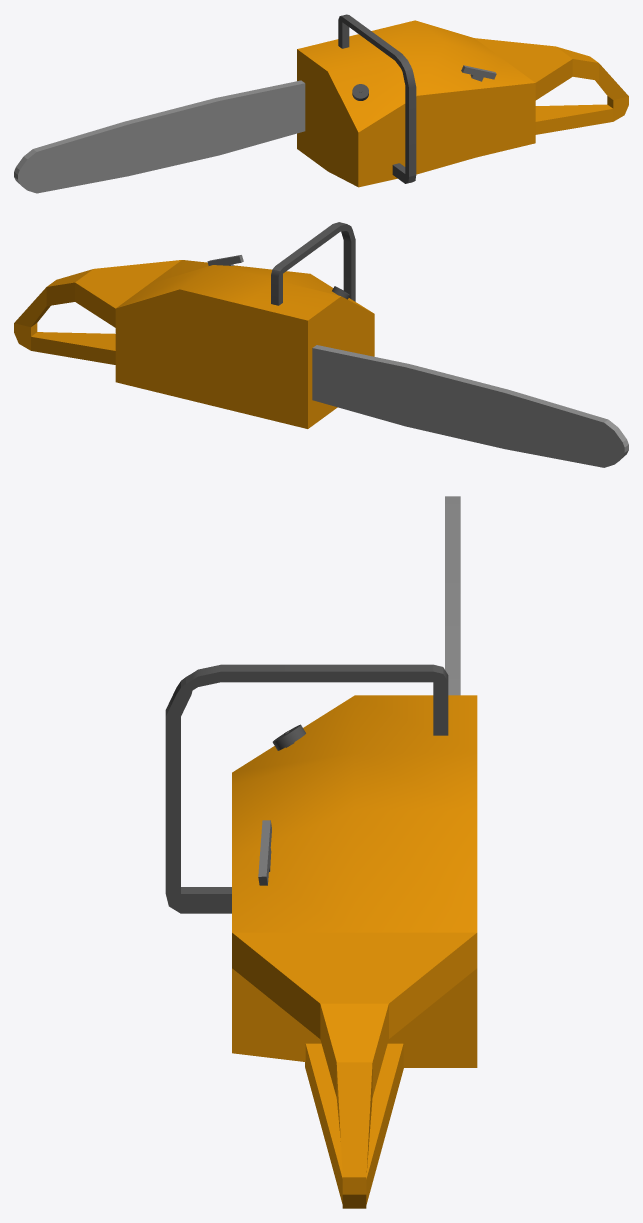
File: chainsaw.fbx
3 views of the same model, one above another, from view 1: azimuth 30°, elevation 25°; view 2: azimuth 150°, elevation 25°; view 3: azimuth 270°, elevation 25° (orthographic). The views are drawn at different scales.
Visible parts, largest first — view 1: pCube5, pCube6; view 2: pCube5; view 3: pCube5.
Boxes of the visible parts, x1,y1,x2,y2 form: pCube5: (14, 14, 628, 193); pCube6: (461, 65, 496, 81); pCube5: (14, 222, 628, 467); pCube5: (165, 496, 477, 1208).
Size of the model in its own units: 16.54 by 4.02 by 3.81.
